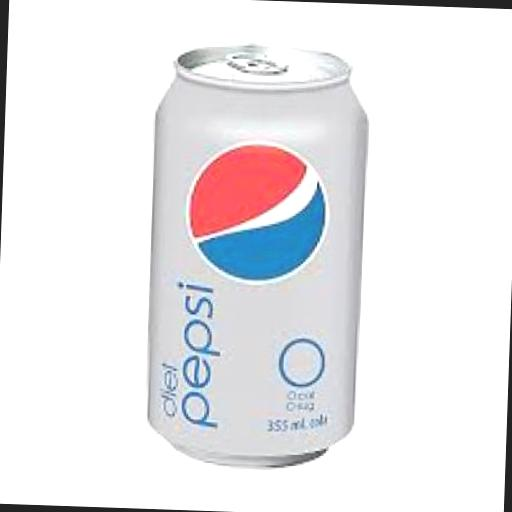metal: (140, 37, 370, 470)
